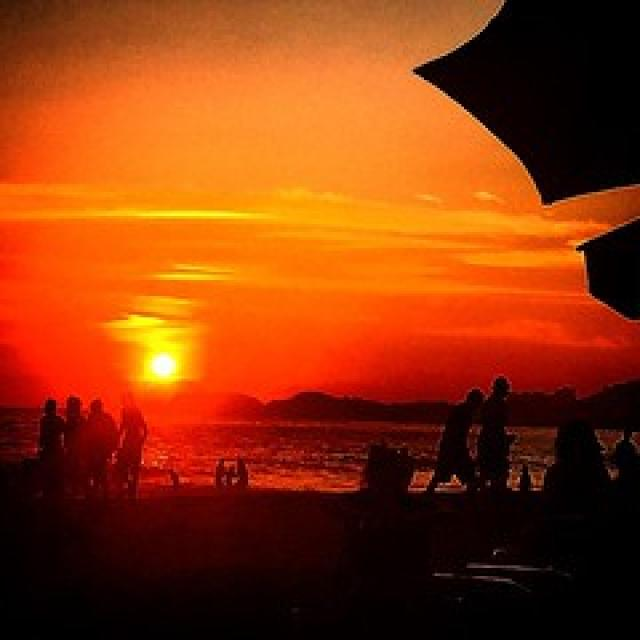sun: (131, 336, 197, 398)
